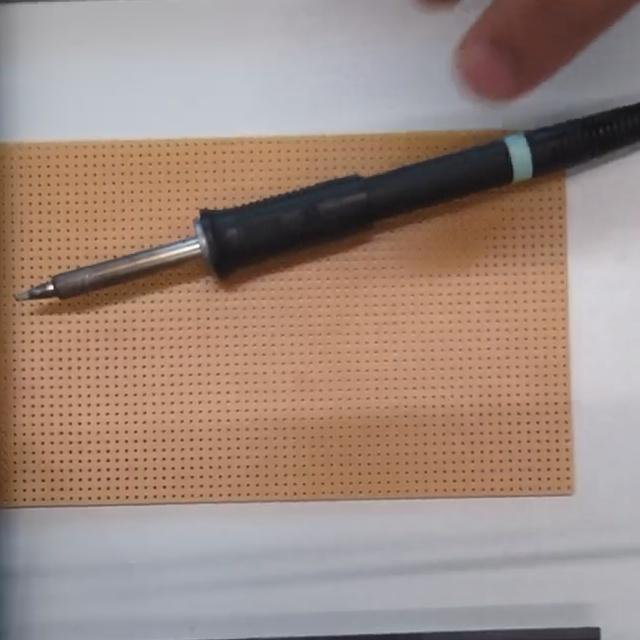soldering_iron: (10, 116, 640, 304)
